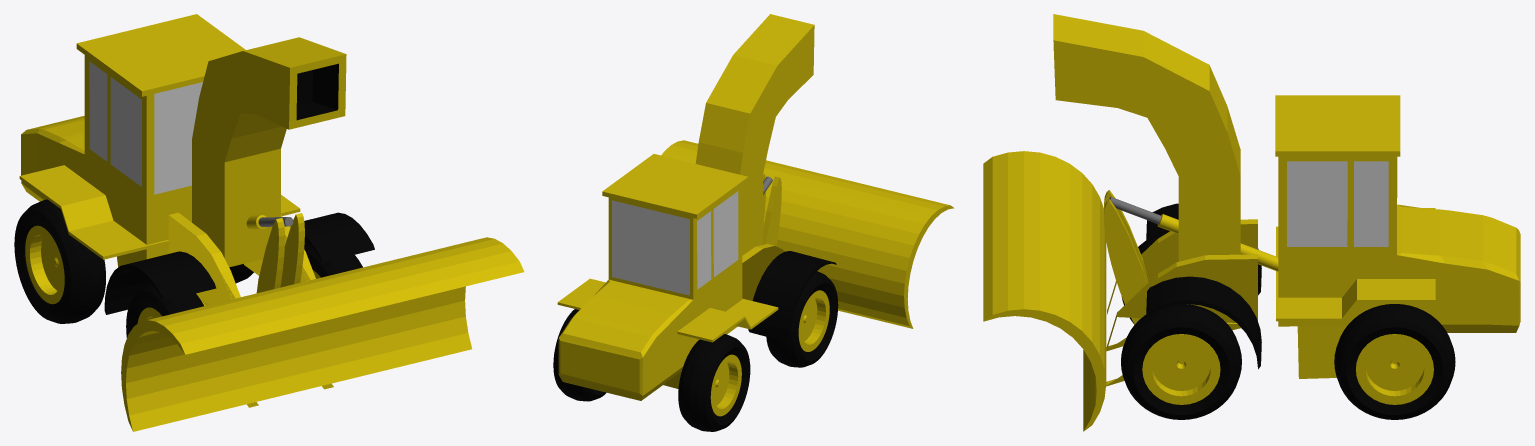
File: eaterBody.fbx
3 renders of one model, left to right at view 1: azimuth 30°, elevation 25°; view 2: azimuth 150°, elevation 25°; view 3: azimuth 270°, elevation 25°, orthographic. The views are drawn at different scales.
Visible parts, largest first — view 1: Cube; view 2: Cube; view 3: Cube.
Boxes of the visible parts, x1,y1,x2,y2 form: Cube: [14, 14, 524, 431]; Cube: [553, 14, 954, 431]; Cube: [983, 14, 1520, 431].
Bounding box in the file's own units: 957 × 995 × 1374.
